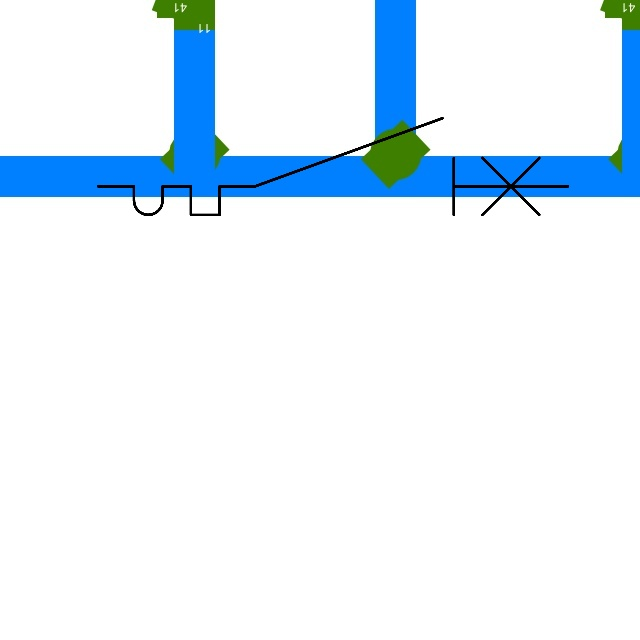interruptor_termomagnetico: (86, 106, 579, 227)
